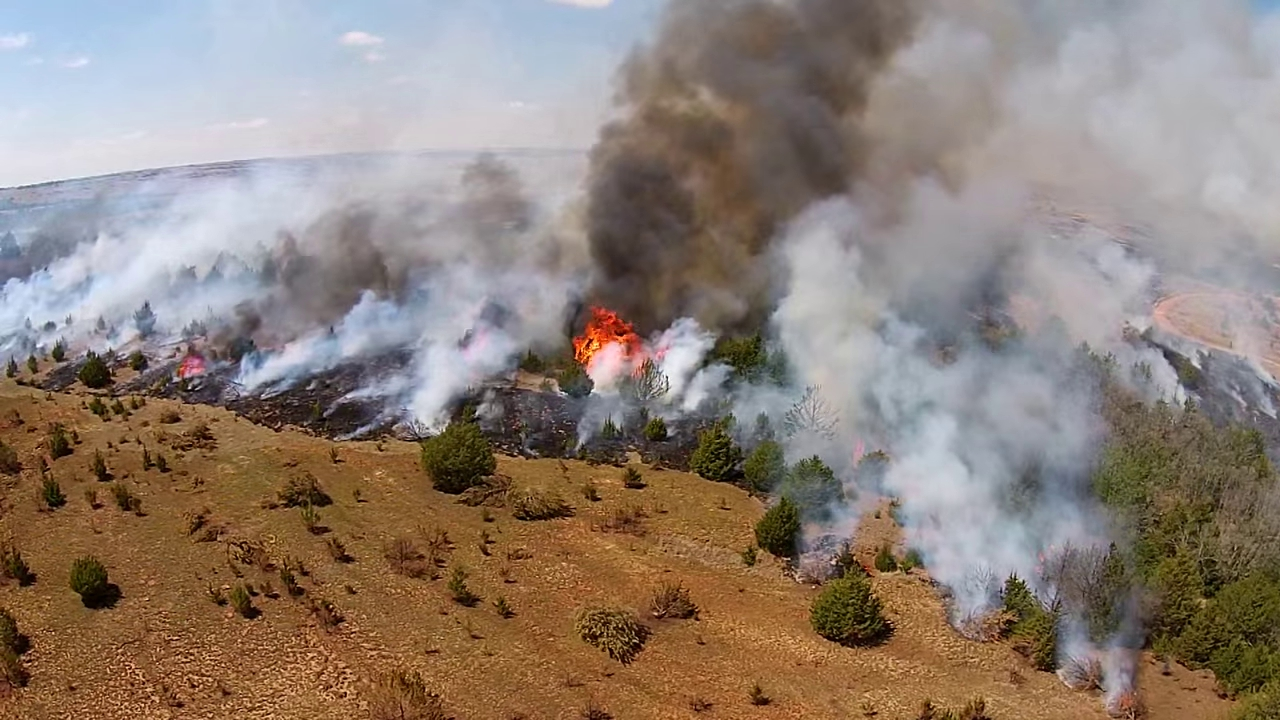forest_fire: (573, 307, 639, 367)
